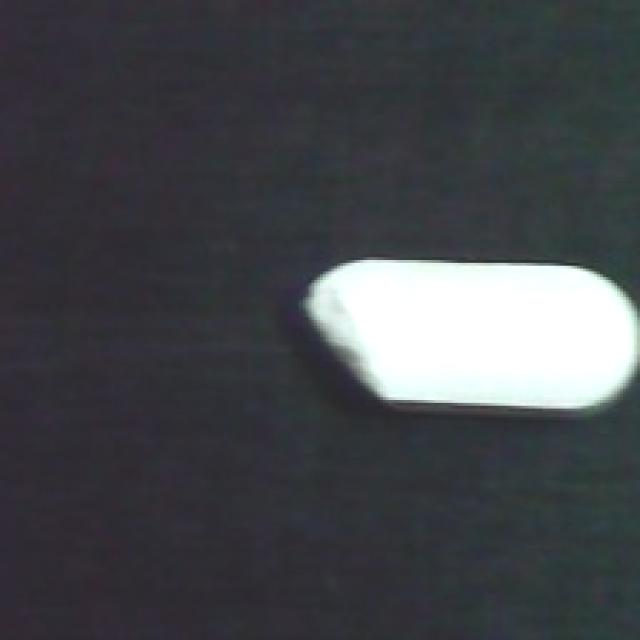defected: (291, 246, 640, 426)
